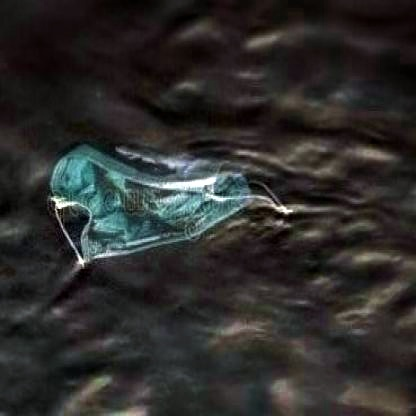Mask: (45, 133, 290, 275)
